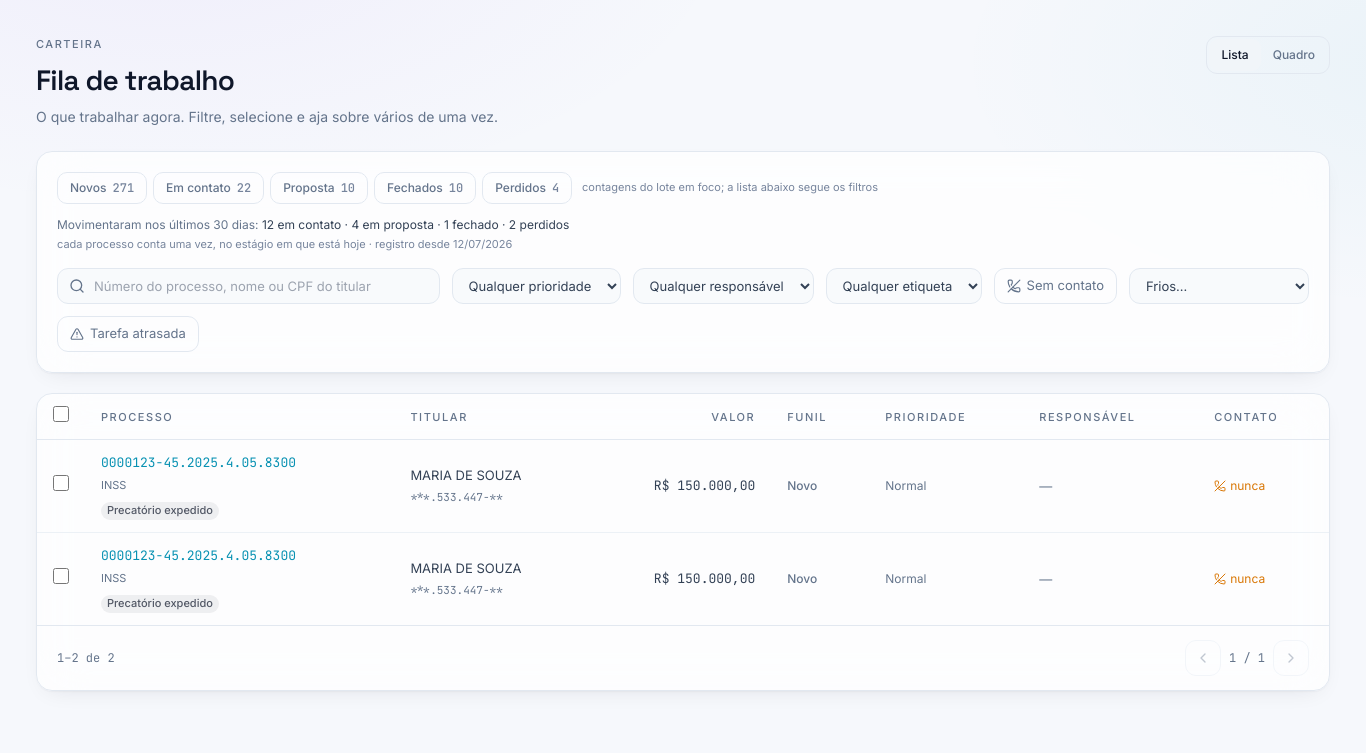
Test case: Fila de trabalho › a seleção morre quando a consulta muda
This screenshot has width=1366, height=753.
Click the 1st checkbox named "Selecionar 0000123-45.2025.4.05.8300".
click(61, 483)  # box left=53, top=475, right=69, bottom=491
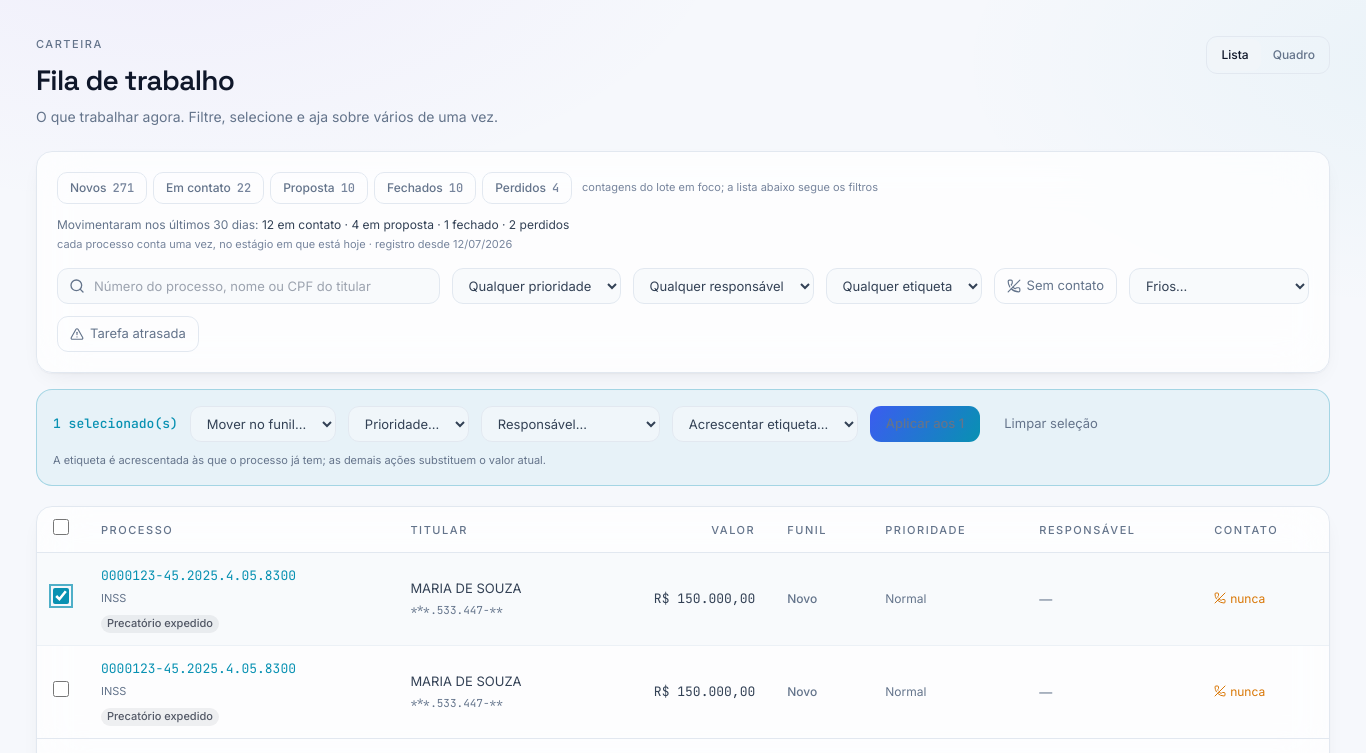
Check: the text "1 selecionado(s)" is shown, box left=53, top=414, right=178, bottom=434
Click the button "Perdidos 4".
click(527, 188)  # box left=482, top=172, right=572, bottom=204
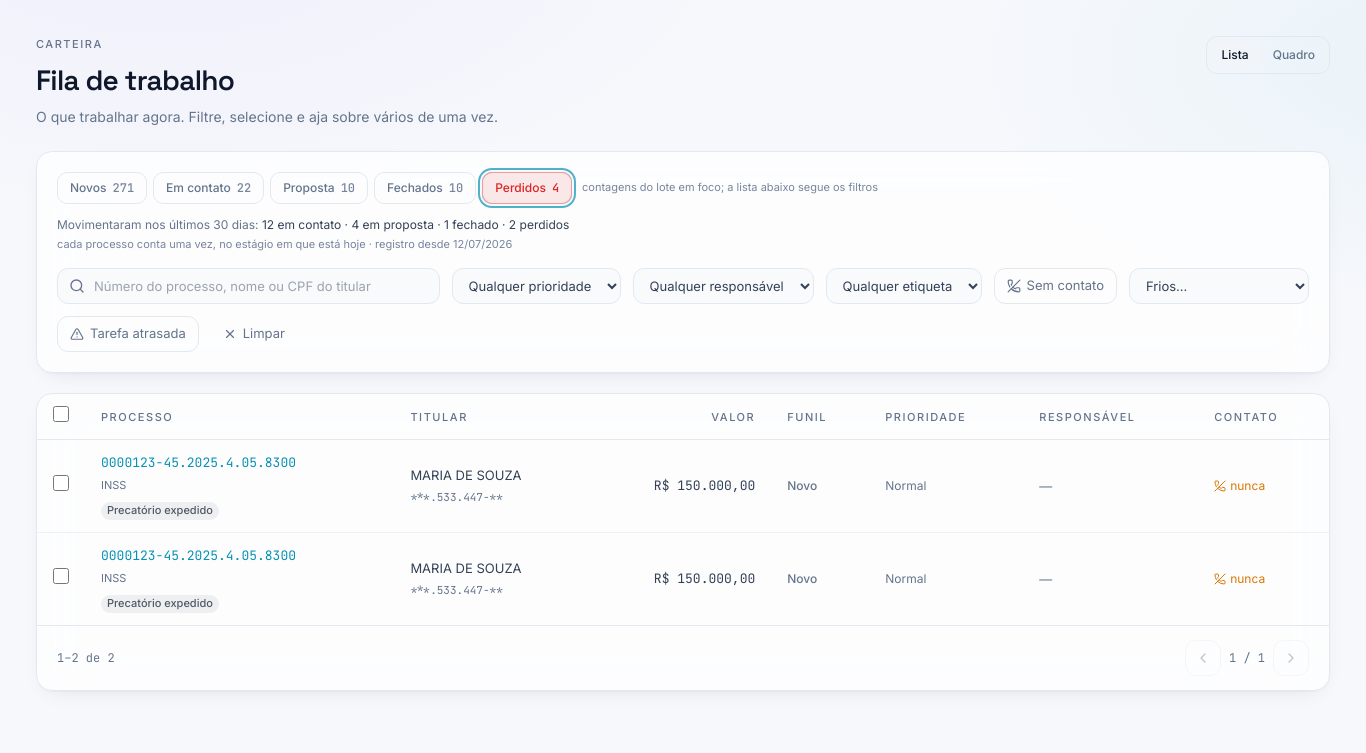
Check: the text "selecionado" is gone
